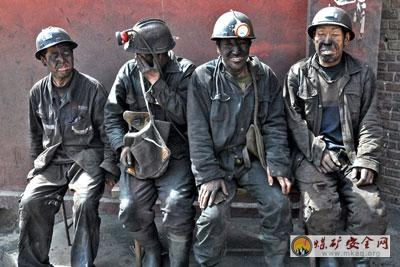helmet: (204, 8, 266, 76), (302, 3, 366, 68), (117, 14, 183, 75), (31, 22, 87, 81)
